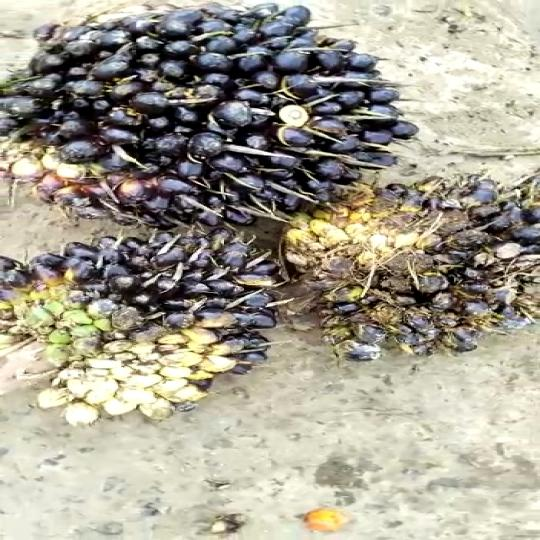mentah: (0, 0, 424, 235), (0, 213, 270, 430), (264, 170, 540, 360)
